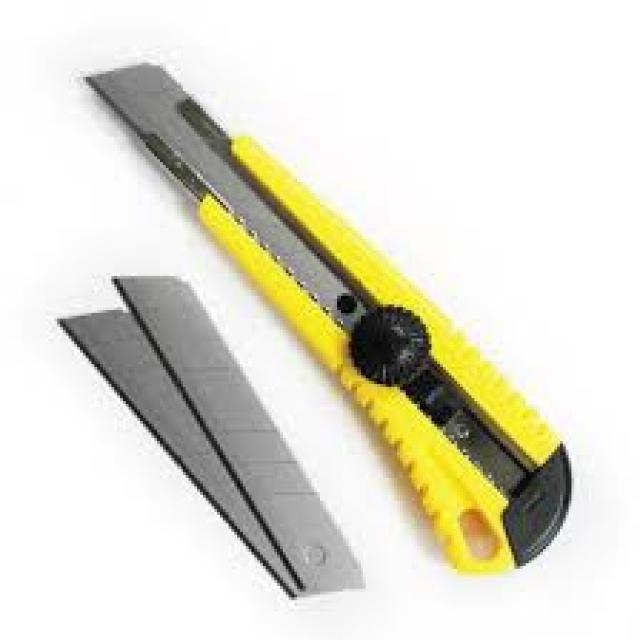cutter: (75, 52, 582, 582)
